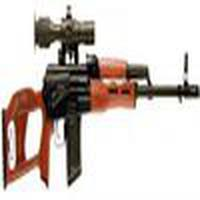gun: (1, 15, 200, 154)
